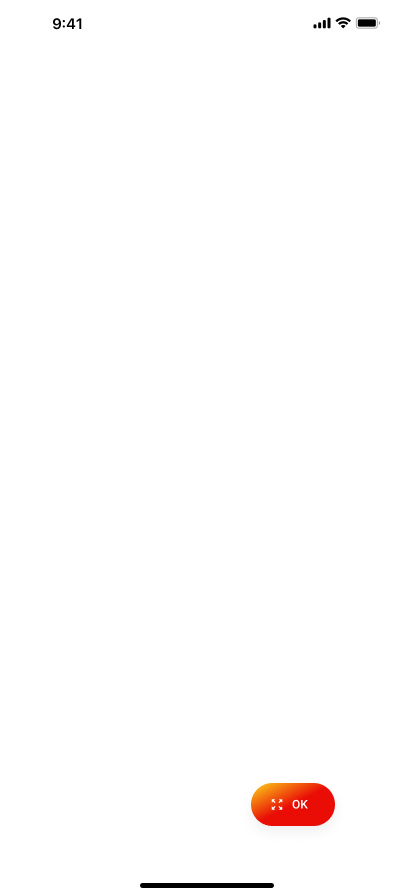Buttons: (236, 774, 350, 847)
Home Indicator: (0, 862, 414, 896)
Status Bar: (0, 0, 414, 44)
